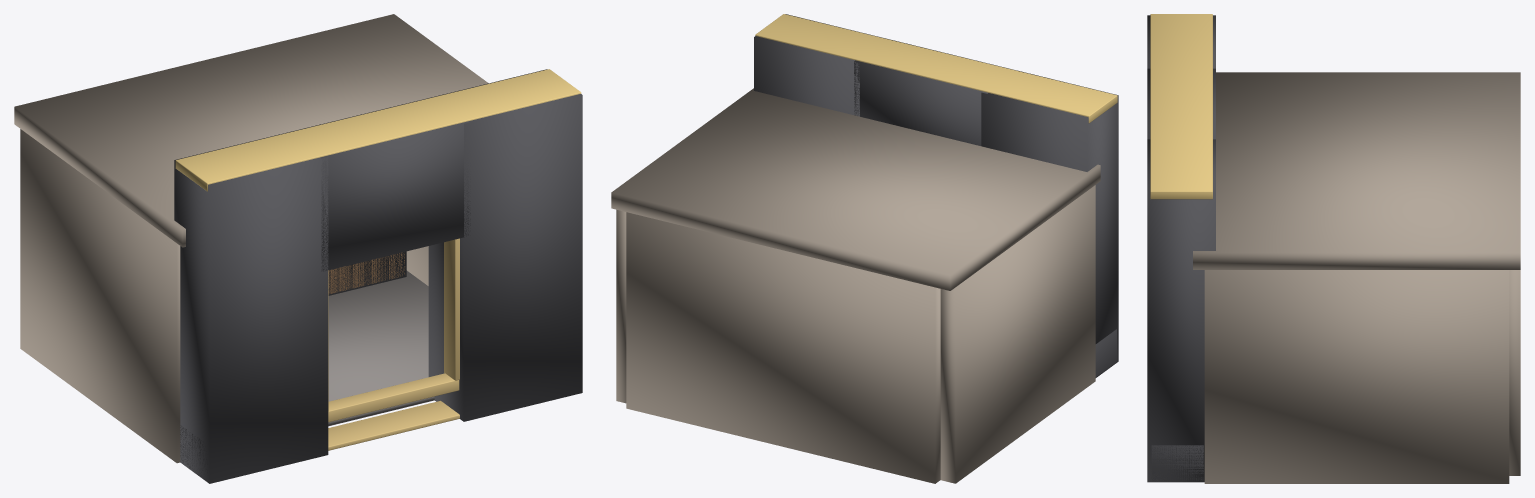
File: vetrina_entrabile.glb
3 renders of one model, left to right at view 1: azimuth 30°, elevation 25°; view 2: azimuth 150°, elevation 25°; view 3: azimuth 270°, elevation 25°, orthographic. The views are drawn at different scales.
Visible parts, largest first — view 1: COL_fronte_sx, int_soffitto, COL_fronte_dx, int_muro_sx, COL_sopraluce, cg_cima_e_1, int_pavimento, soglia, vt_e_basso, vm_e_3, COL_scaffale, scaffale (+1 smaller); view 2: int_fondo, int_soffitto, int_muro_sx, COL_fronte_sx, cg_cima_e_1, COL_sopraluce, COL_fronte_dx, int_muro_dx, zoccolo_-1; view 3: int_muro_dx, int_soffitto, COL_fronte_dx, cg_cima_e_1, int_fondo, zoccolo_1, COL_sopraluce.
Boxes of the visible parts, bbox=[...] form: COL_fronte_sx: bbox=[174, 133, 328, 483]; int_soffitto: bbox=[14, 14, 488, 247]; COL_fronte_dx: bbox=[428, 69, 582, 421]; int_muro_sx: bbox=[20, 129, 180, 463]; COL_sopraluce: bbox=[286, 96, 470, 271]; cg_cima_e_1: bbox=[175, 69, 581, 191]; int_pavimento: bbox=[328, 270, 434, 426]; soglia: bbox=[328, 400, 459, 450]; vt_e_basso: bbox=[328, 373, 459, 422]; vm_e_3: bbox=[444, 238, 459, 380]; COL_scaffale: bbox=[328, 251, 406, 295]; scaffale: bbox=[328, 252, 405, 293]; int_fondo: bbox=[626, 212, 940, 483]; int_soffitto: bbox=[611, 88, 1100, 290]; int_muro_sx: bbox=[940, 185, 1095, 483]; COL_fronte_sx: bbox=[981, 71, 1118, 377]; cg_cima_e_1: bbox=[755, 14, 1117, 123]; COL_sopraluce: bbox=[854, 38, 1018, 145]; COL_fronte_dx: bbox=[754, 14, 884, 116]; int_muro_dx: bbox=[616, 209, 626, 403]; zoccolo_-1: bbox=[1095, 329, 1116, 376]; int_muro_dx: bbox=[1204, 270, 1509, 483]; int_soffitto: bbox=[1193, 72, 1520, 269]; COL_fronte_dx: bbox=[1147, 139, 1215, 482]; cg_cima_e_1: bbox=[1150, 14, 1212, 199]; int_fondo: bbox=[1509, 270, 1520, 475]; zoccolo_1: bbox=[1151, 445, 1203, 481]; COL_sopraluce: bbox=[1147, 68, 1215, 139].
Size of the model in its own units: 5.6 by 4.22 by 4.9.
